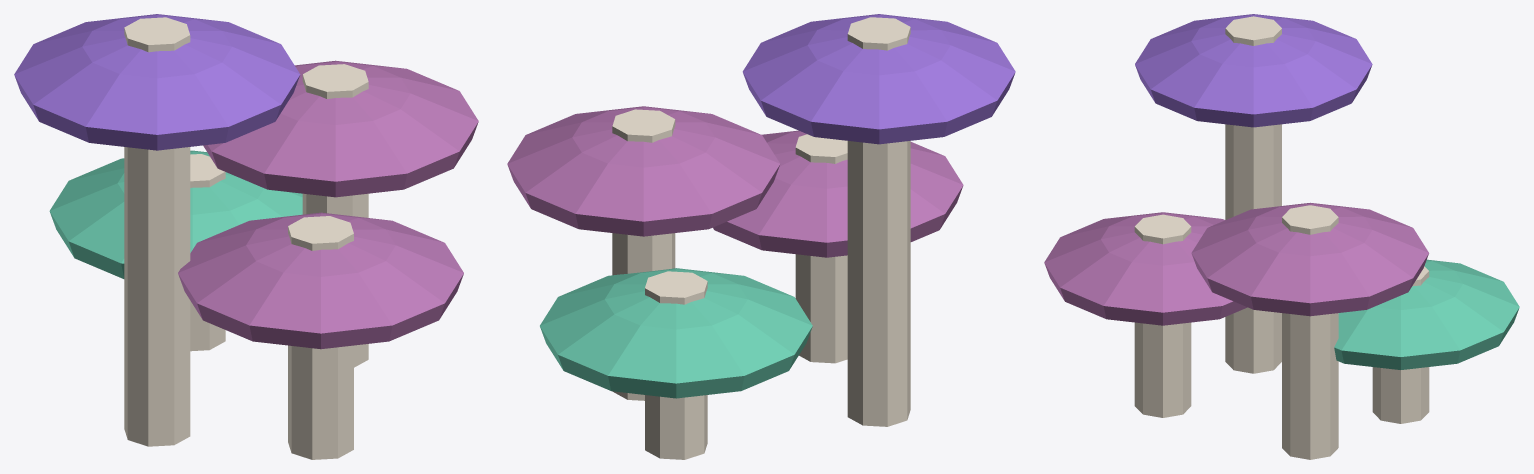
The model's file is decor_2.fbx.
3 views of the same model, side by side, from view 1: azimuth 30°, elevation 25°; view 2: azimuth 150°, elevation 25°; view 3: azimuth 270°, elevation 25° (orthographic). The views are drawn at different scales.
Parts seen in each view (by area): view 1: decor_2; view 2: decor_2; view 3: decor_2.
Part boxes in pixels (box(x1,y1,x2,y2)): decor_2: box(14, 14, 478, 459); decor_2: box(507, 14, 1015, 459); decor_2: box(1044, 14, 1519, 459).
Bounding box in the file's own units: 1.56 × 1.3 × 1.68.
